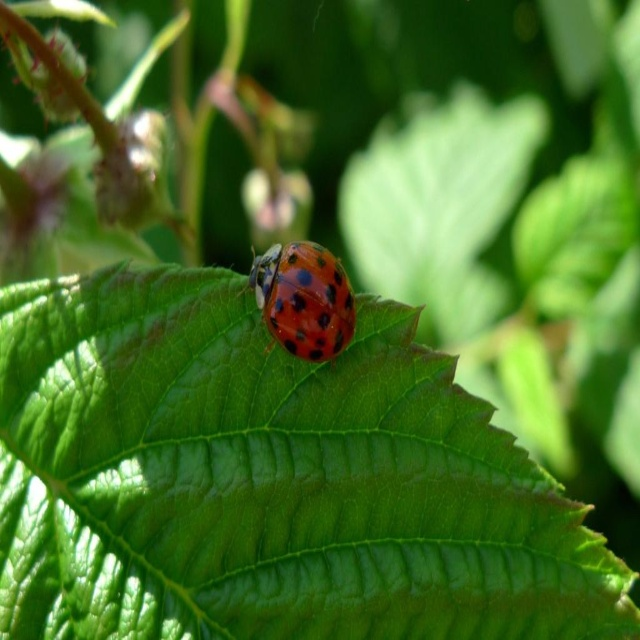Ladybug: (236, 238, 356, 363)
